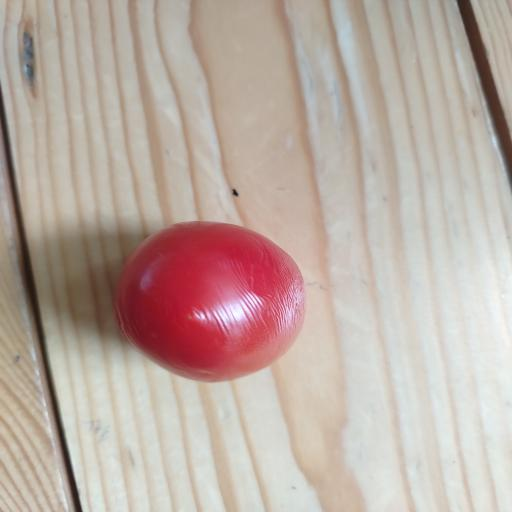spoiled: (115, 222, 305, 382)
